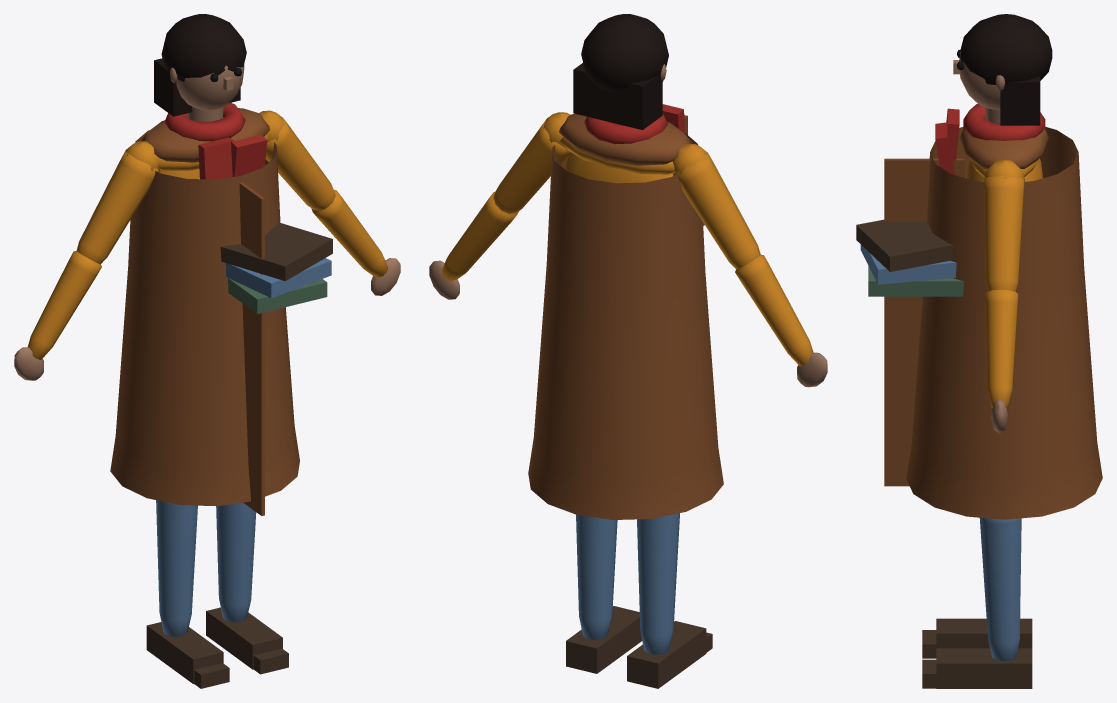
Rendered from Maren_age_22.obj.
3 renders of one model, left to right at view 1: azimuth 30°, elevation 25°; view 2: azimuth 150°, elevation 25°; view 3: azimuth 270°, elevation 25°, orthographic. The views are drawn at different scales.
Parts seen in each view (by area): view 1: Maren_age_22; view 2: Maren_age_22; view 3: Maren_age_22.
Part boxes in pixels (bbox=[...]): Maren_age_22: bbox=[14, 14, 400, 688]; Maren_age_22: bbox=[429, 14, 827, 688]; Maren_age_22: bbox=[856, 14, 1102, 688].
Size of the model in its own units: 1.1 by 1.72 by 0.5926.
